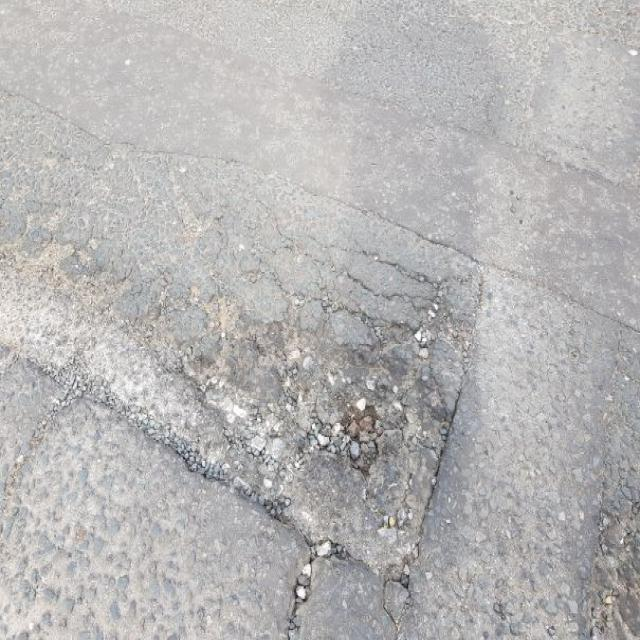pothole: (4, 218, 315, 532), (217, 251, 454, 574)
